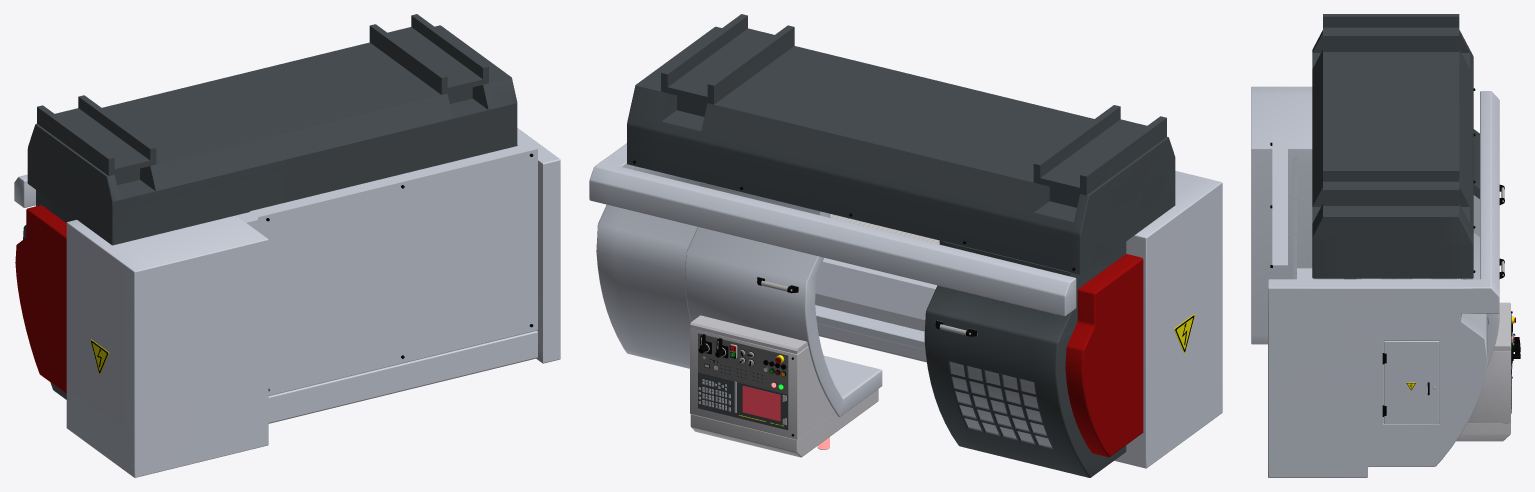
The model's file is turning-lathe-cnc-cormak.fbx.
3 renders of one model, left to right at view 1: azimuth 30°, elevation 25°; view 2: azimuth 150°, elevation 25°; view 3: azimuth 270°, elevation 25°, orthographic. The views are drawn at different scales.
Visible parts, largest first — view 1: CORMAK_machine_vray l_grey_0, CORMAK_machine_vray d_grey_0, CORMAK_machine_vray led_red_0; view 2: CORMAK_machine_vray d_grey_0, CORMAK_machine_vray l_grey_0, CORMAK_machine_vray led_red_0, CORMAK_machine_vray white_0, CORMAK_machine_vray grey3_0, CORMAK_machine_vray black_plastik_0, CORMAK_machine_vray glass_screen_0, CORMAK_machine_vray chrome_gloss_0; view 3: CORMAK_machine_vray l_grey_0, CORMAK_machine_vray d_grey_0, CORMAK_machine_vray white_0, CORMAK_machine_vray black_plastik_0.
Part boxes in pixels (x1=…): CORMAK_machine_vray l_grey_0: x1=14, y1=128, x2=560, y2=477; CORMAK_machine_vray d_grey_0: x1=23, y1=14, x2=517, y2=399; CORMAK_machine_vray led_red_0: x1=15, y1=205, x2=66, y2=393; CORMAK_machine_vray d_grey_0: x1=627, y1=14, x2=1175, y2=477; CORMAK_machine_vray l_grey_0: x1=589, y1=143, x2=1222, y2=468; CORMAK_machine_vray led_red_0: x1=729, y1=254, x2=1143, y2=457; CORMAK_machine_vray white_0: x1=690, y1=315, x2=878, y2=457; CORMAK_machine_vray grey3_0: x1=698, y1=333, x2=787, y2=394; CORMAK_machine_vray black_plastik_0: x1=633, y1=160, x2=1194, y2=436; CORMAK_machine_vray glass_screen_0: x1=742, y1=386, x2=780, y2=421; CORMAK_machine_vray chrome_gloss_0: x1=730, y1=214, x2=977, y2=365; CORMAK_machine_vray l_grey_0: x1=1251, y1=86, x2=1499, y2=477; CORMAK_machine_vray d_grey_0: x1=1312, y1=14, x2=1512, y2=413; CORMAK_machine_vray white_0: x1=1456, y1=302, x2=1511, y2=441; CORMAK_machine_vray black_plastik_0: x1=1270, y1=88, x2=1520, y2=416.
Size of the model in its own units: 32013 by 23020 by 17883.
